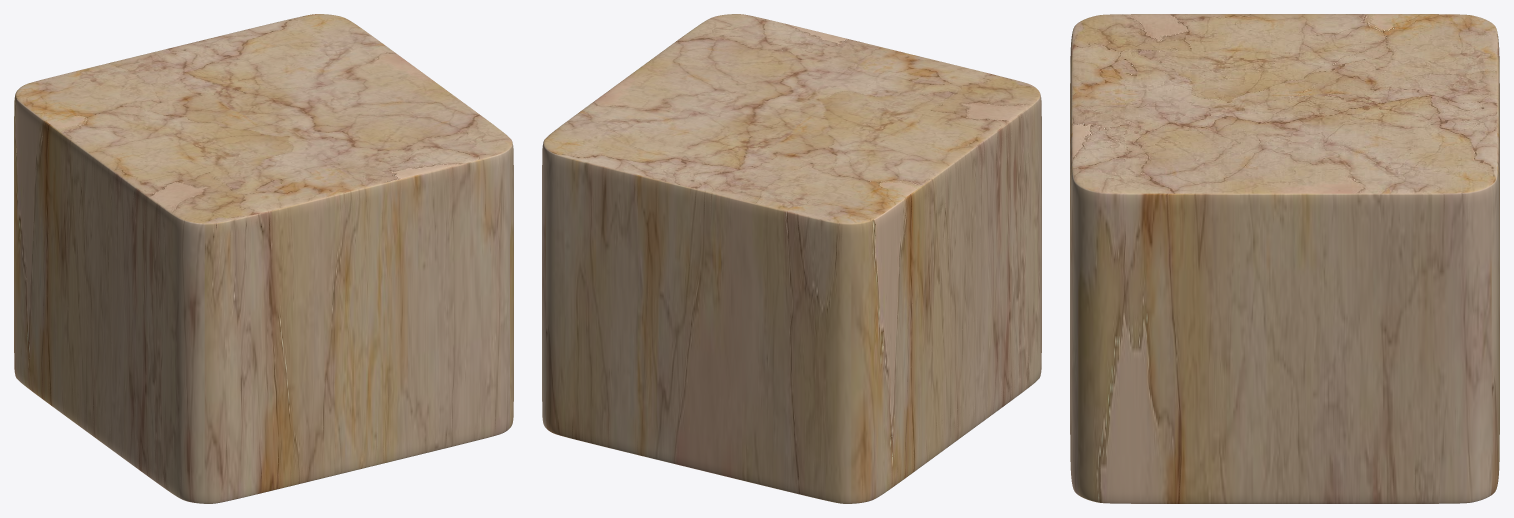
File: CUBO.glb
3 renders of one model, left to right at view 1: azimuth 30°, elevation 25°; view 2: azimuth 150°, elevation 25°; view 3: azimuth 270°, elevation 25°, orthographic. The views are drawn at different scales.
Visible parts, largest first — view 1: Cubo plano redondeado; view 2: Cubo plano redondeado; view 3: Cubo plano redondeado.
Part boxes in pixels (x1,y1,x2,y2): Cubo plano redondeado: [14, 14, 513, 503]; Cubo plano redondeado: [542, 14, 1041, 503]; Cubo plano redondeado: [1070, 14, 1499, 503].
Size of the model in its own units: 0.2004 by 0.1608 by 0.2004.
Materials: 1 (1 with a texture image).
